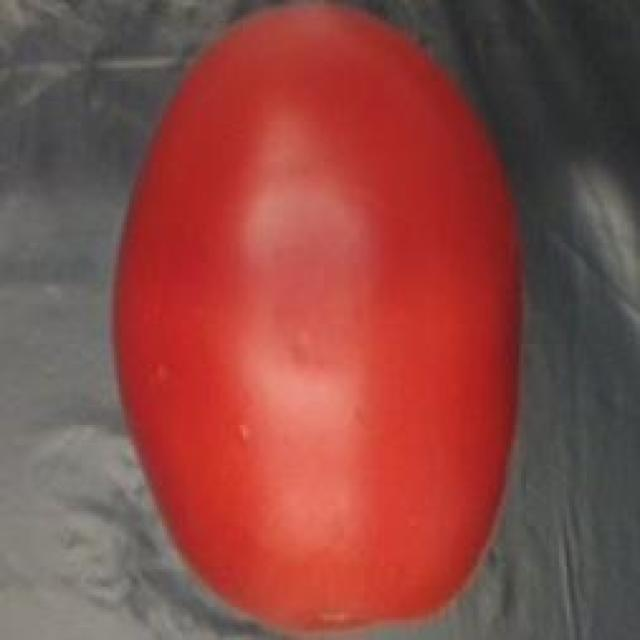ripe tomato: (91, 0, 546, 640)
